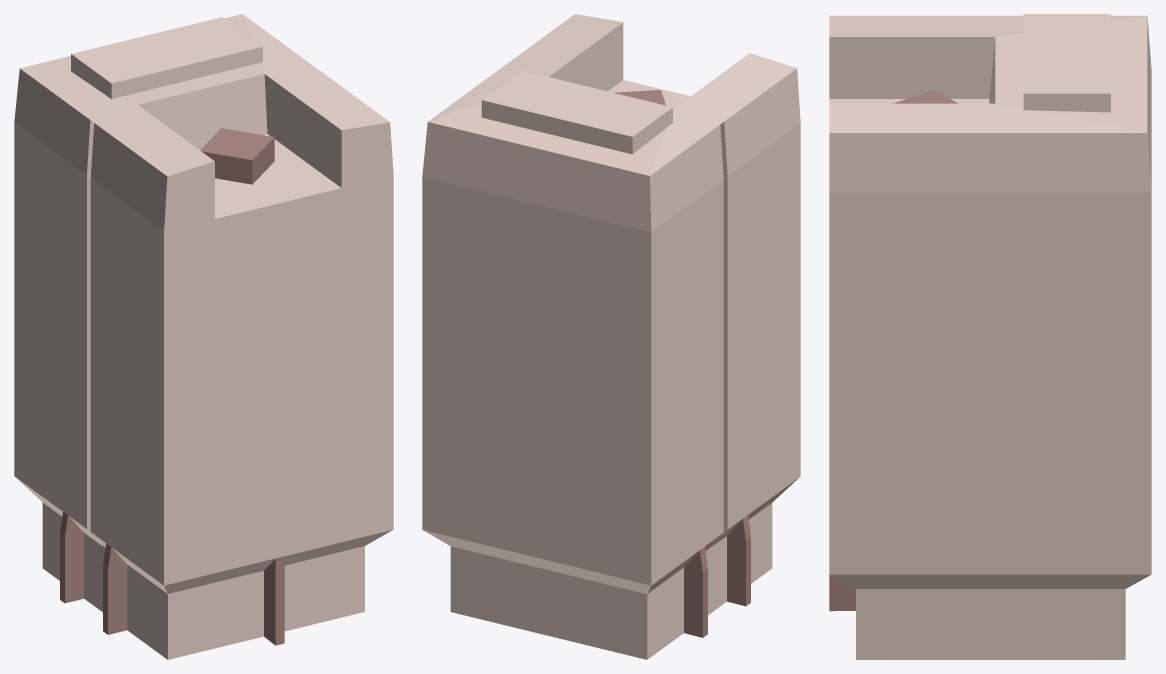
Rendered from Edificio009.FBX.
3 views of the same model, side by side, from view 1: azimuth 30°, elevation 25°; view 2: azimuth 150°, elevation 25°; view 3: azimuth 270°, elevation 25° (orthographic). The views are drawn at different scales.
Visible parts, largest first — view 1: Edificio009; view 2: Edificio009; view 3: Edificio009.
Part boxes in pixels (box(x1,y1,x2,y2)): Edificio009: box(14, 14, 393, 659); Edificio009: box(422, 14, 800, 659); Edificio009: box(829, 14, 1151, 659).
Bounding box in the file's own units: 652 × 1377 × 727.
